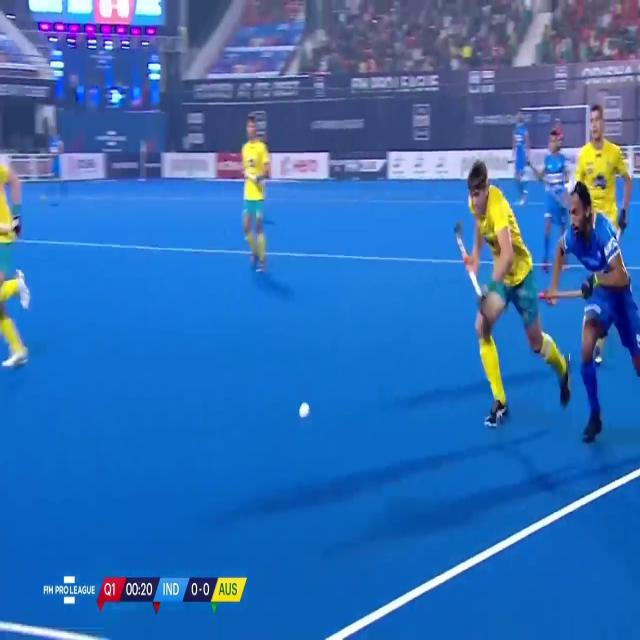ball: (294, 393, 316, 429)
